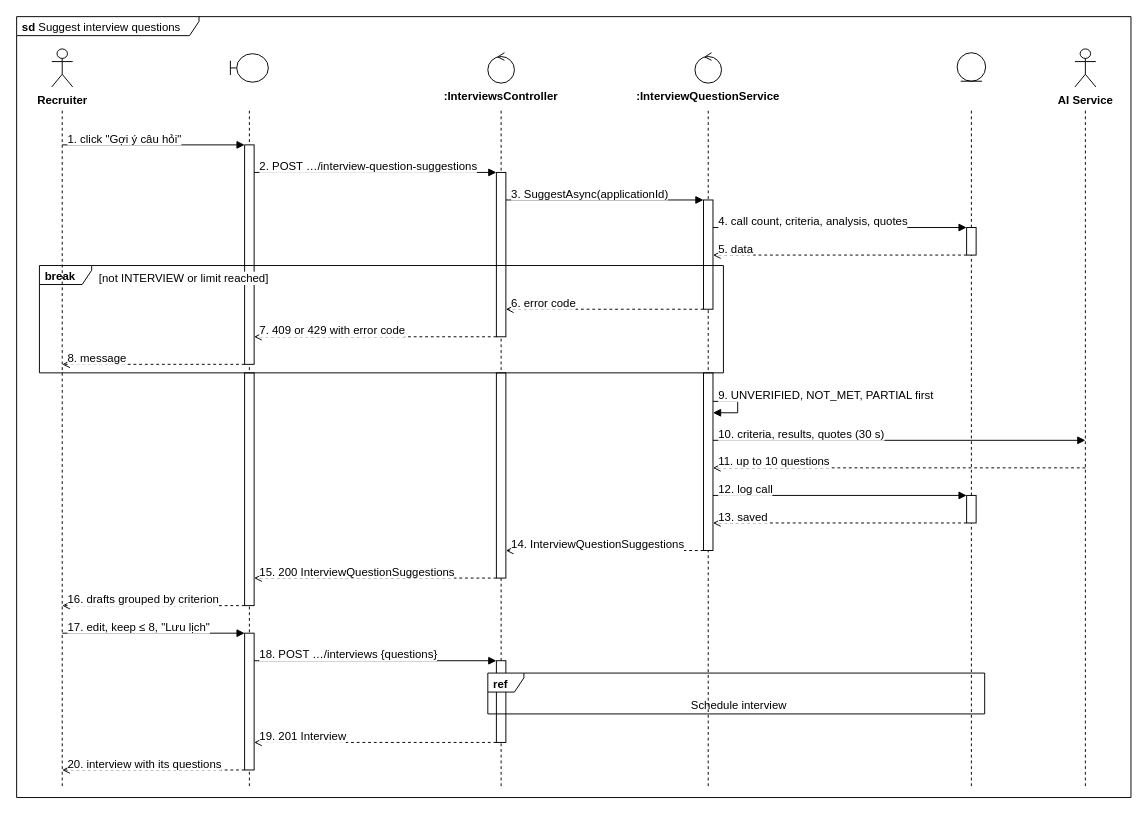
The diagram is 1148 pixels wide and 814 high, and some of its shapes have lost their labels. The centre of each missing label's shape, as x and y in pixels:
:Database: the point at 971,66
:Schedule interview modal: the point at 248,67
